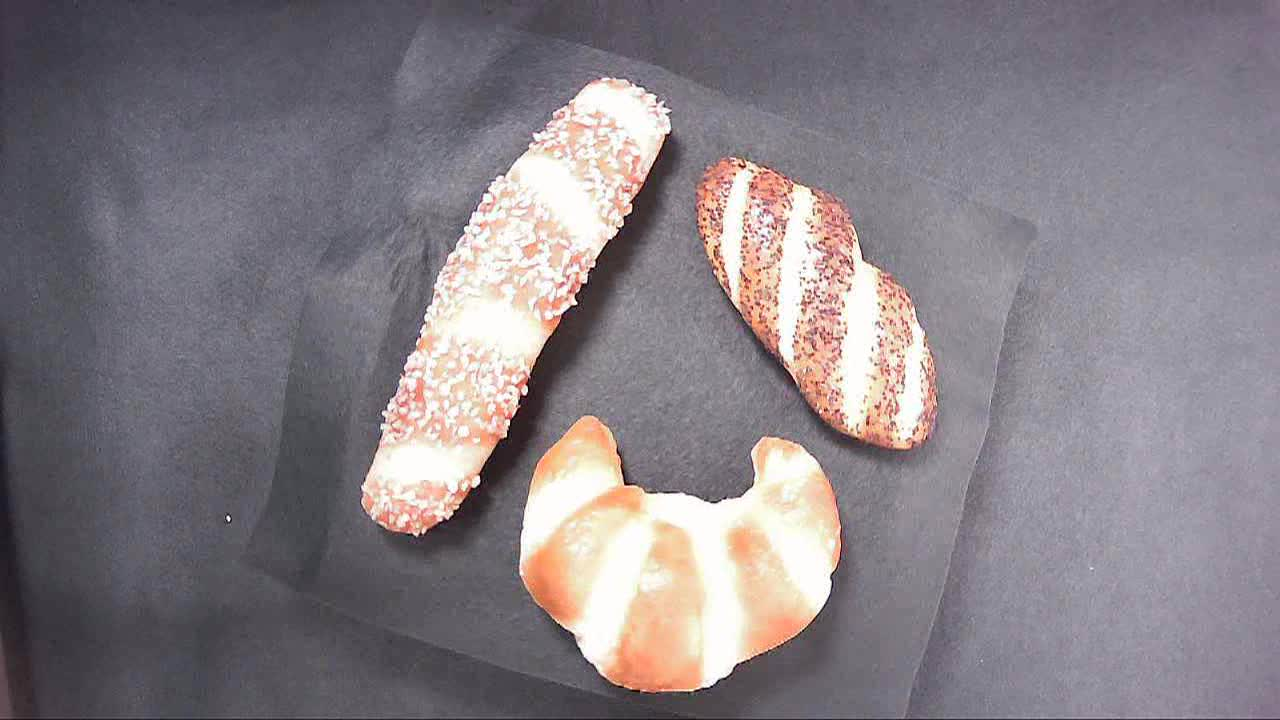cow: (547, 403, 808, 698), (517, 435, 646, 700), (735, 434, 840, 676)
long: (492, 59, 674, 349), (331, 267, 481, 547), (418, 154, 583, 408)
slash: (695, 141, 956, 430), (826, 186, 976, 457)
